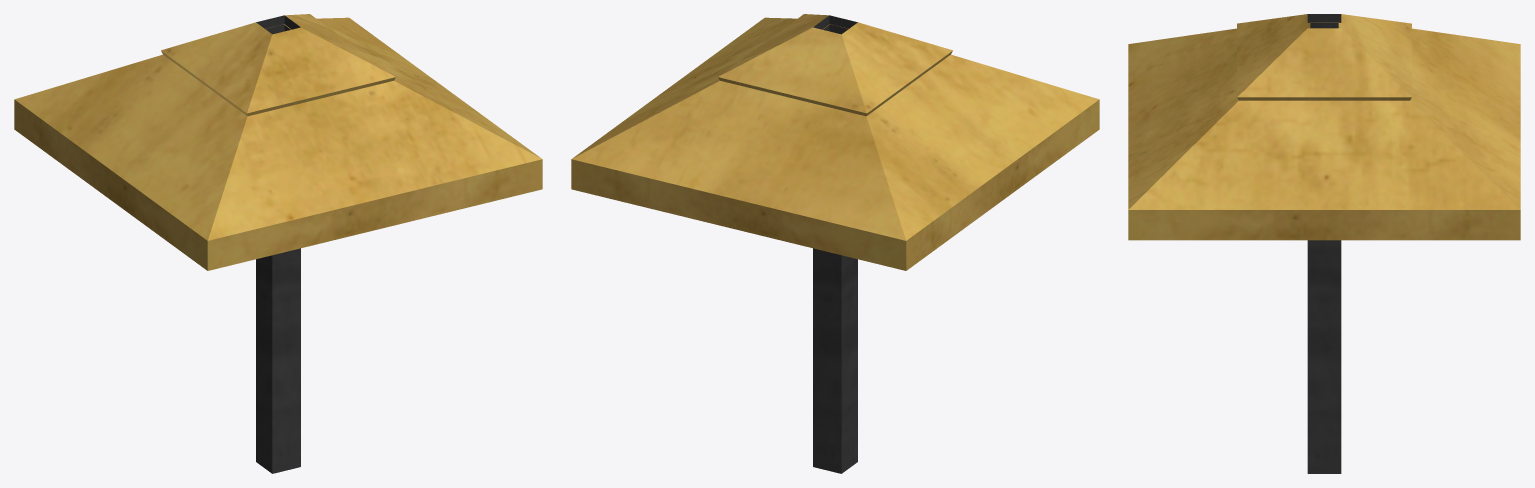
File: BusStop.fbx
3 renders of one model, left to right at view 1: azimuth 30°, elevation 25°; view 2: azimuth 150°, elevation 25°; view 3: azimuth 270°, elevation 25°, orthographic.
Parts seen in each view (by area): view 1: BusStop; view 2: BusStop; view 3: BusStop.
Boxes of the visible parts, left/top/right/bottom form: BusStop: left=14, top=14, right=542, bottom=473; BusStop: left=571, top=14, right=1099, bottom=473; BusStop: left=1128, top=14, right=1520, bottom=473.
Bounding box in the file's own units: 248 × 312 × 248.
